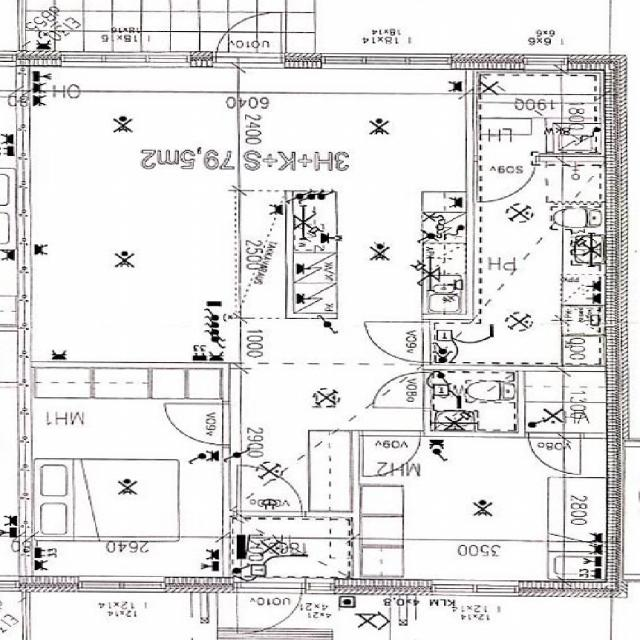door: (236, 578, 302, 640), (216, 6, 281, 68), (241, 469, 302, 519), (478, 155, 537, 202), (165, 404, 231, 444), (364, 322, 430, 362), (363, 431, 420, 476), (528, 430, 580, 473), (372, 372, 430, 408)
